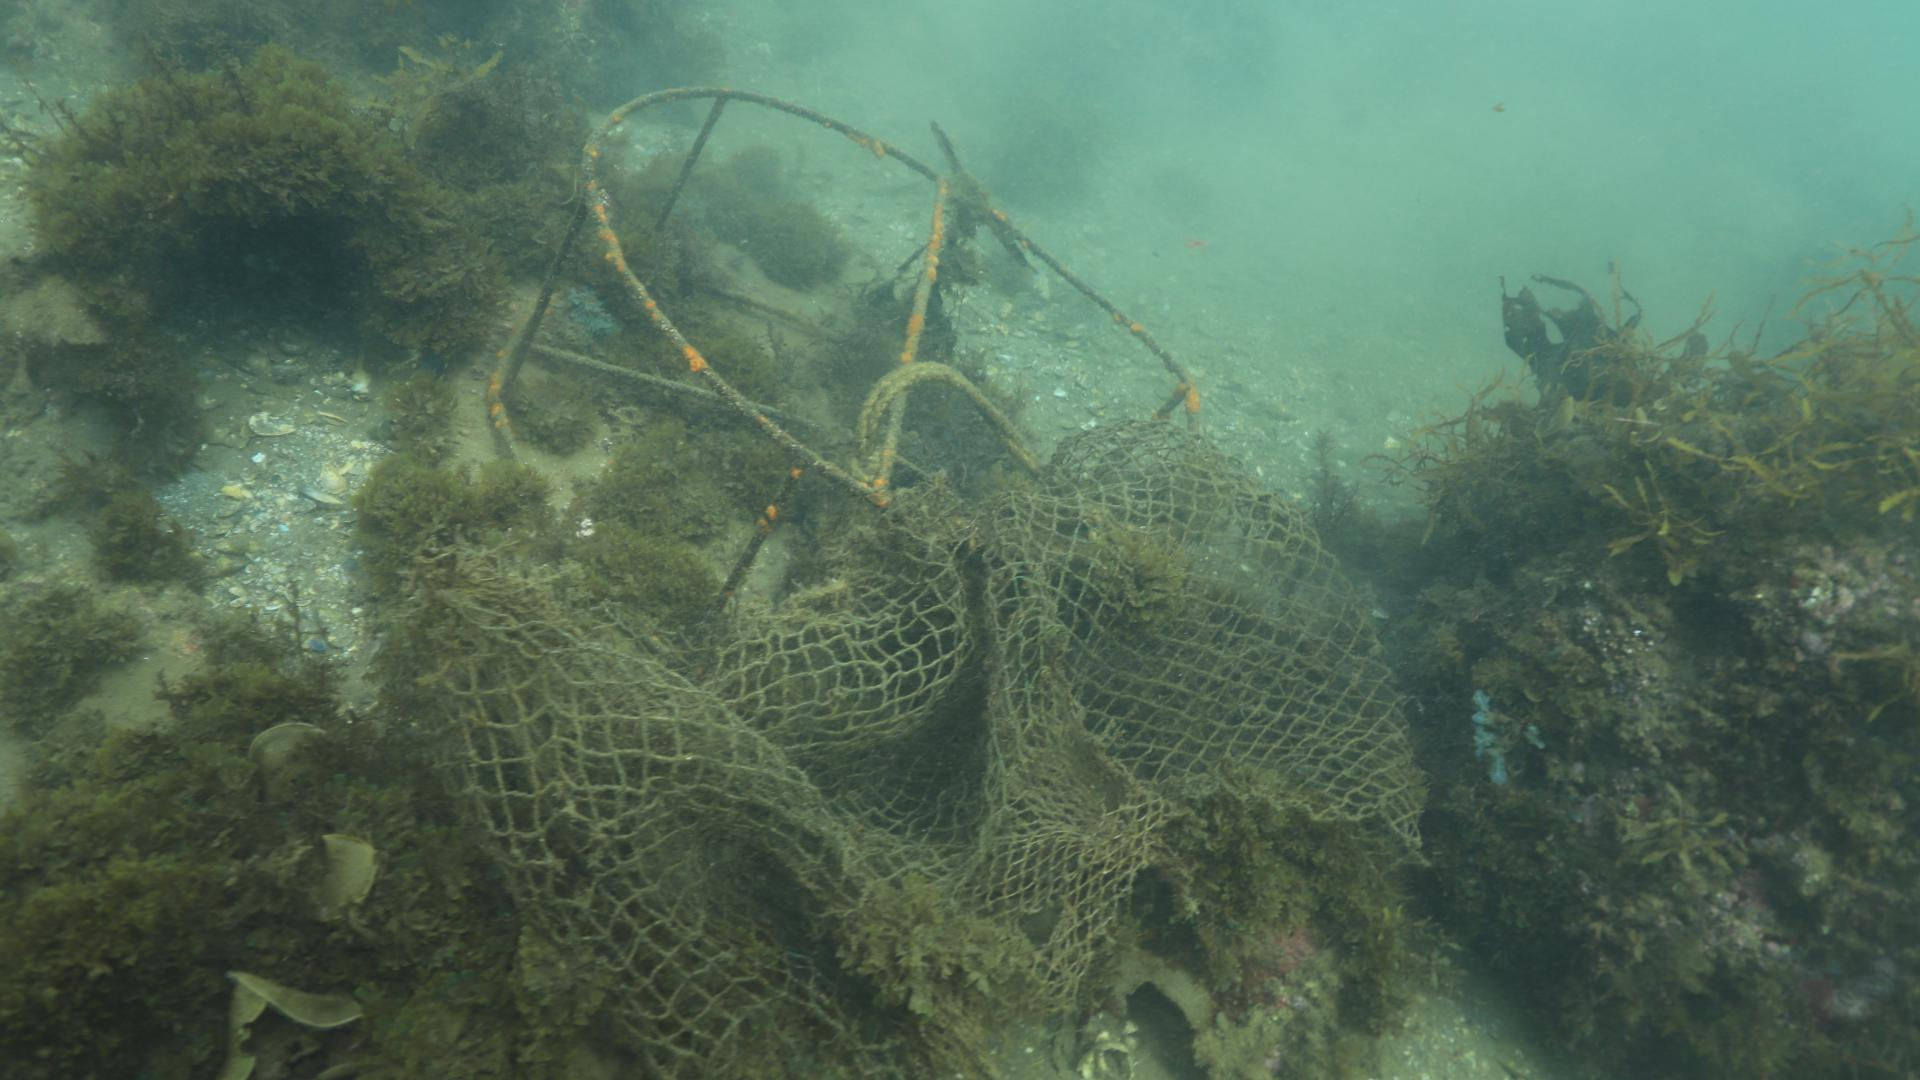bundle of ropes: (855, 359, 1046, 481)
fish net: (411, 414, 1425, 1080)
